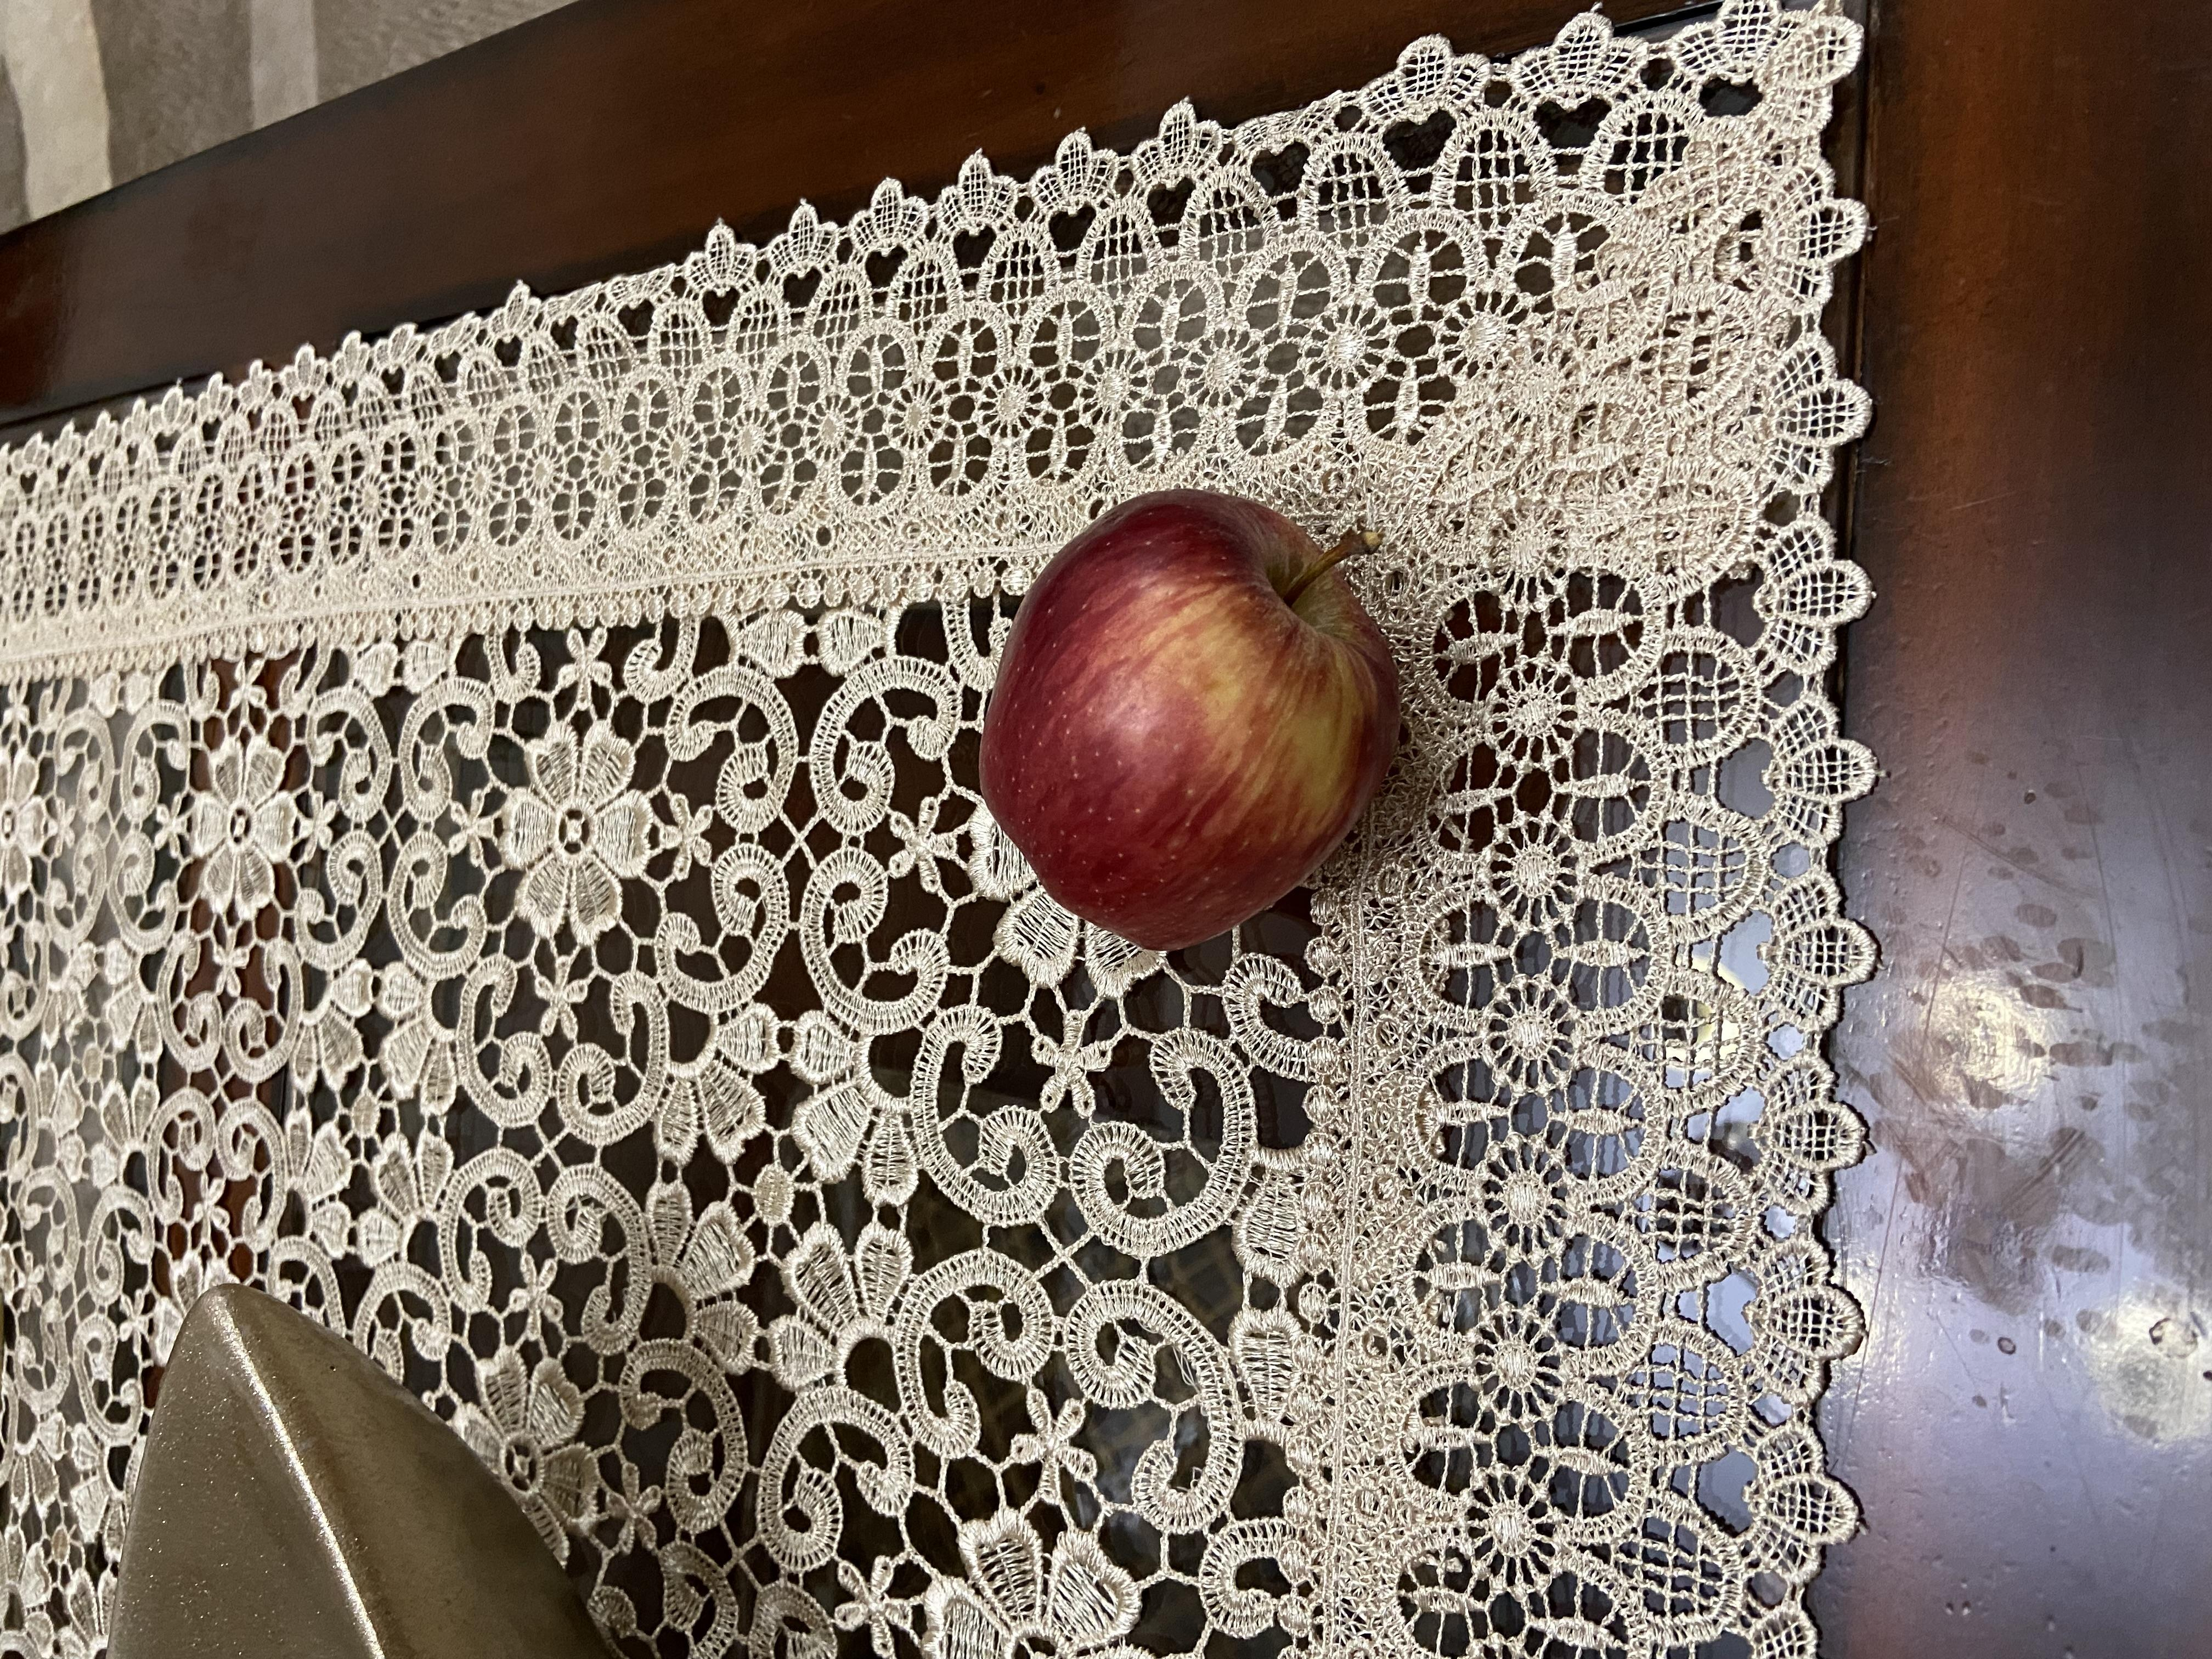Apple: (946, 716, 1588, 1070)
